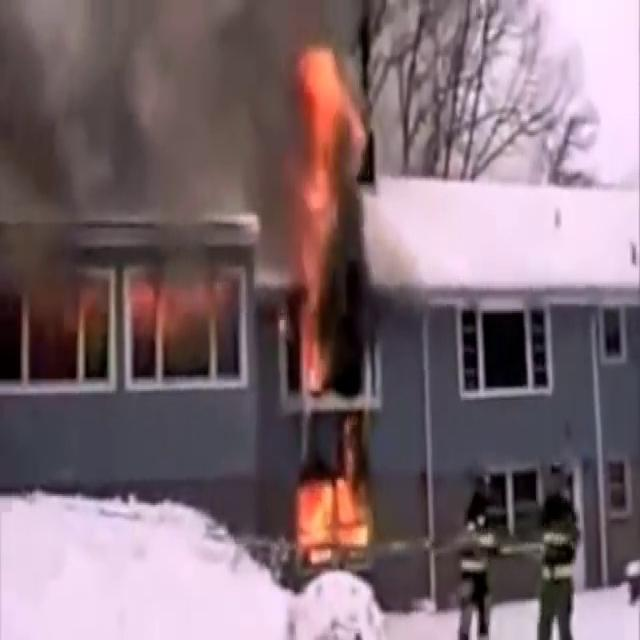Fire: (285, 39, 356, 402), (281, 444, 368, 574)
Smoke: (0, 0, 346, 272)
